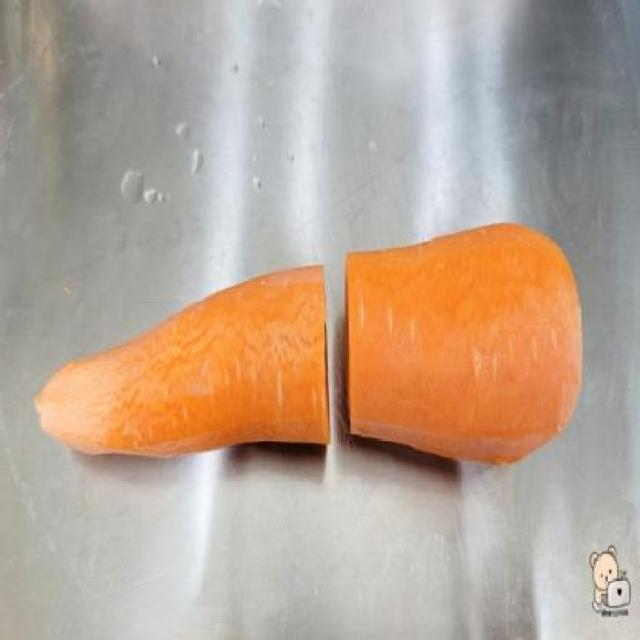carrot: (29, 252, 336, 466), (341, 220, 584, 472)
